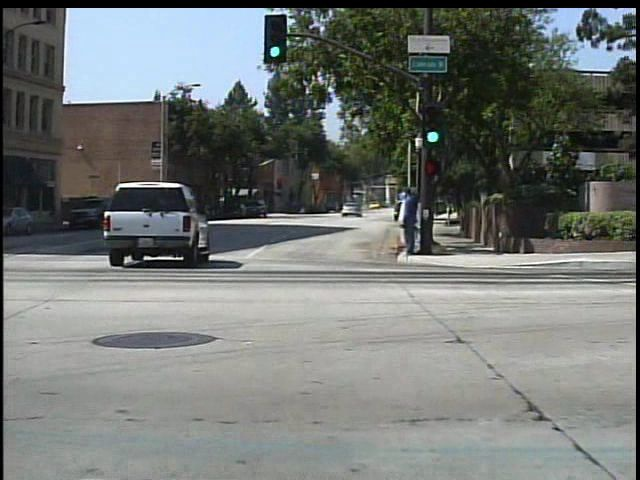person: (400, 185, 421, 256), (396, 191, 417, 256), (297, 201, 310, 216)
